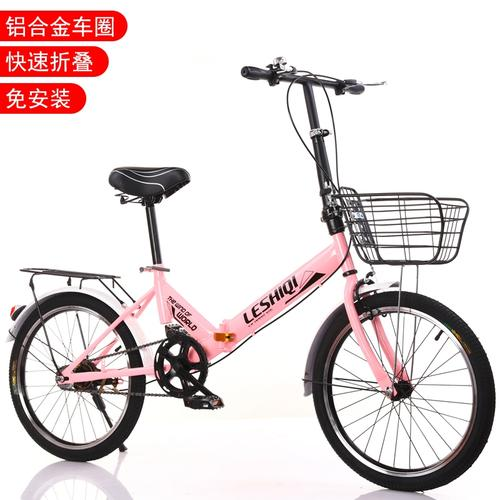单车: (4, 52, 500, 493)
